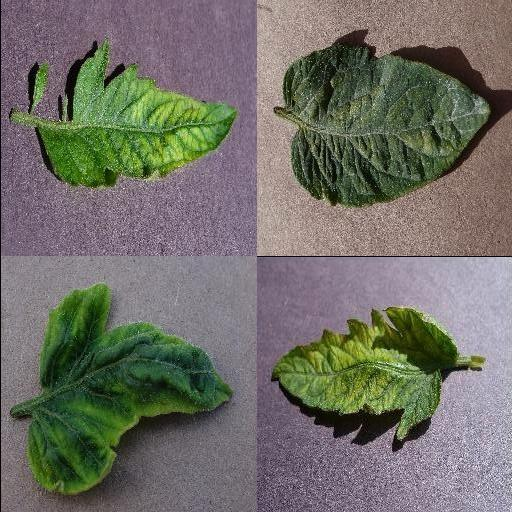Mosaic Virus: (37, 40, 237, 190), (272, 305, 458, 441)
Spider Mites: (282, 42, 490, 208)
Yellow Leaf Curl Virus: (26, 286, 234, 494)
